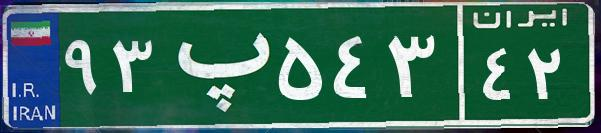2: (525, 38, 570, 115)
3: (385, 28, 445, 110), (110, 28, 158, 105)
4: (330, 28, 385, 110), (475, 38, 525, 113)
5: (273, 28, 330, 110)
9: (57, 26, 110, 107)
پ: (158, 15, 273, 115)
